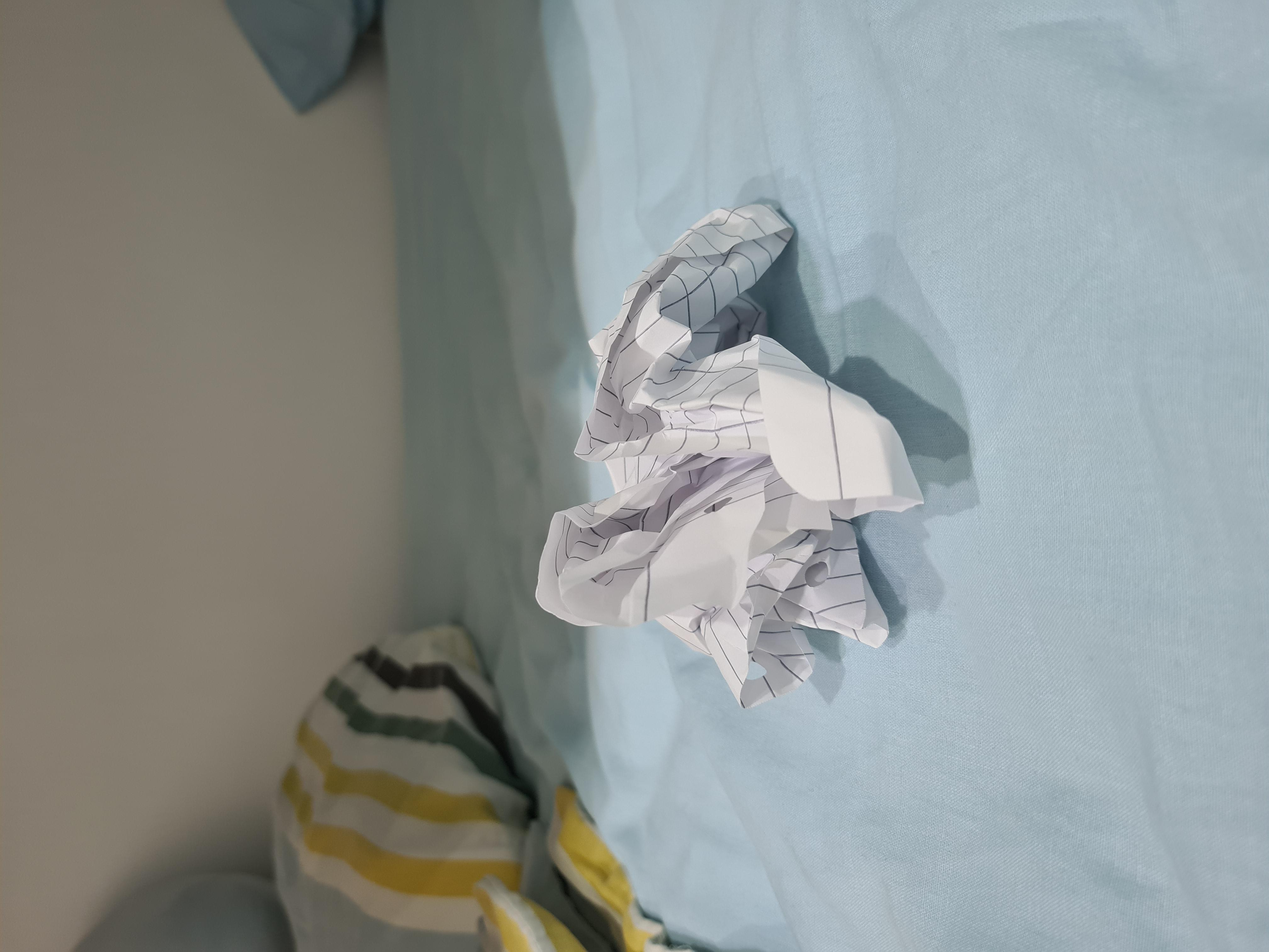paper: (362, 388, 1021, 681)
